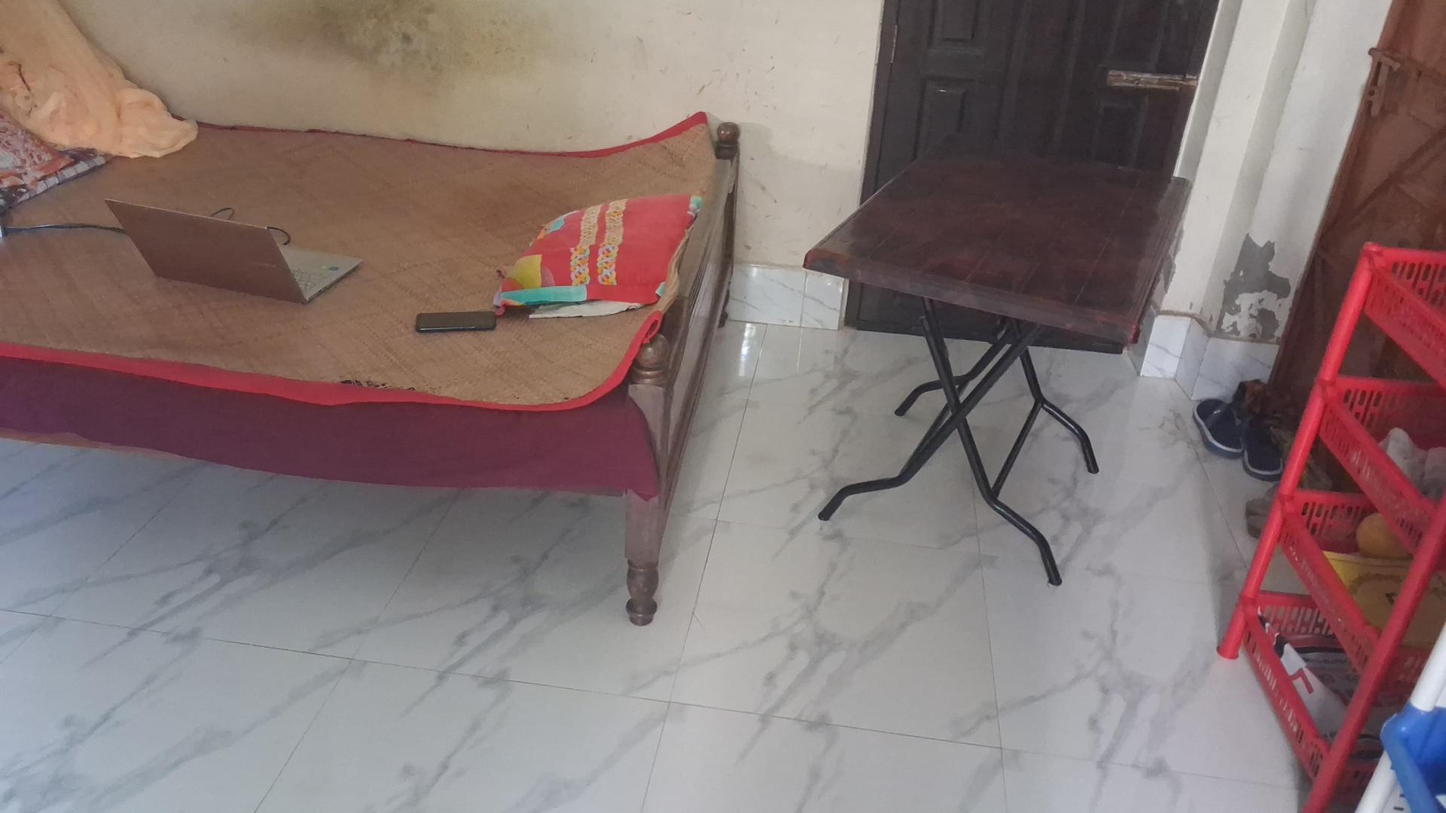Footwear: (1197, 389, 1289, 480)
Laptop: (106, 199, 362, 305)
Phone: (418, 309, 498, 332)
Pillow: (491, 196, 697, 307)
Rack: (1218, 242, 1445, 804)
Table: (802, 147, 1186, 585)
